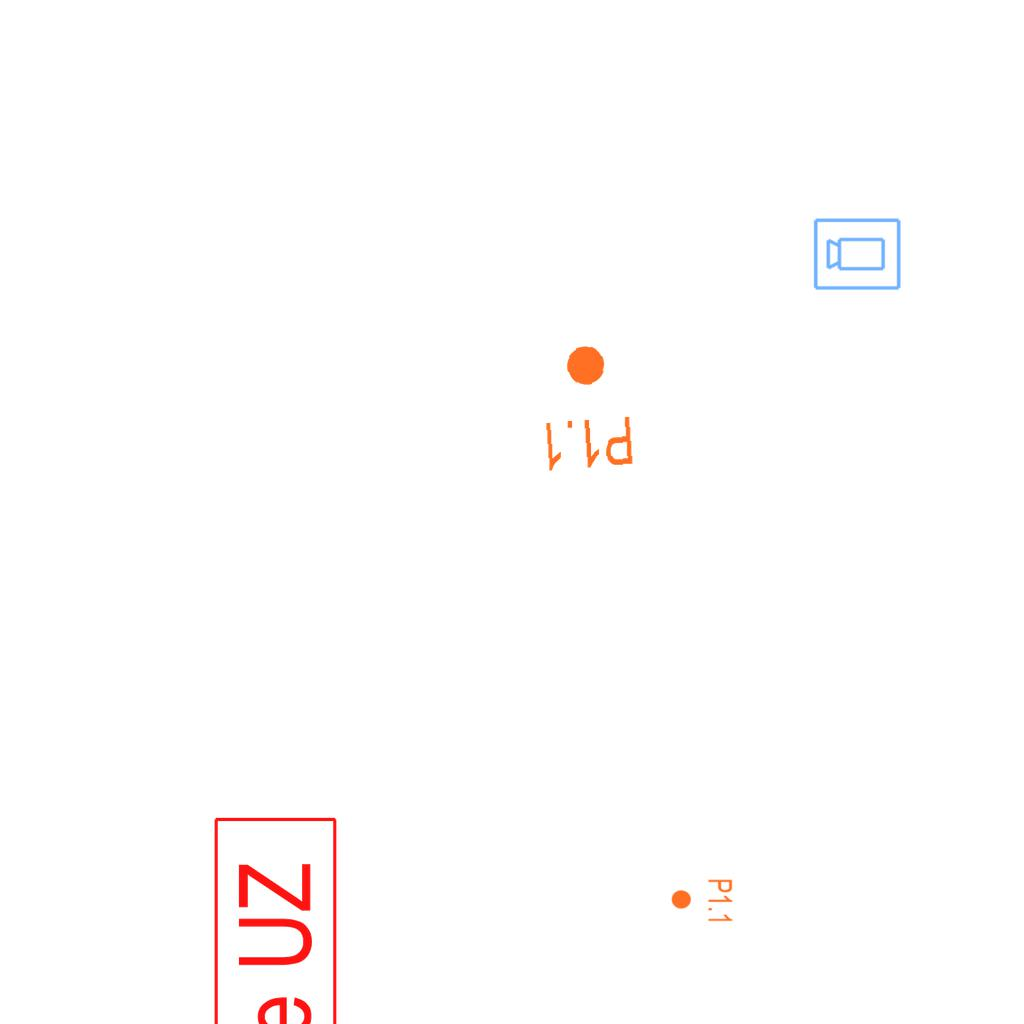Downlight_LED_Einbauleuchten_Flur_2: (534, 339, 637, 475), (670, 878, 734, 924)
KFO_Kamera_mit_Festobjektiv: (812, 215, 903, 292)
Zentrale_Sicherheitsbeleuchtung: (211, 812, 341, 1024)
